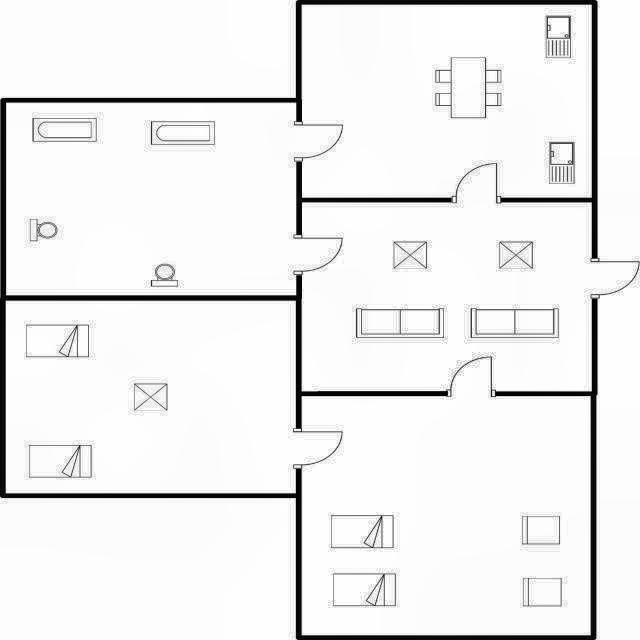room: (302, 396, 591, 635), (302, 5, 592, 198), (6, 103, 296, 295), (6, 301, 296, 493), (302, 202, 592, 391)
